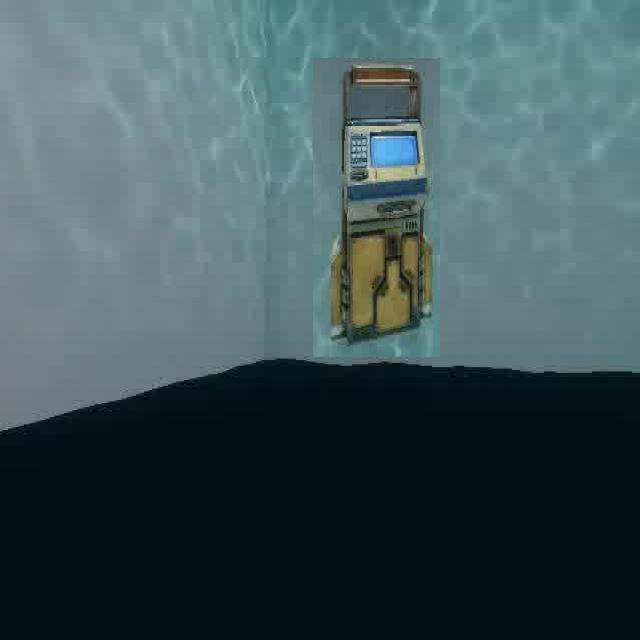Control Panel: (313, 58, 440, 357)
